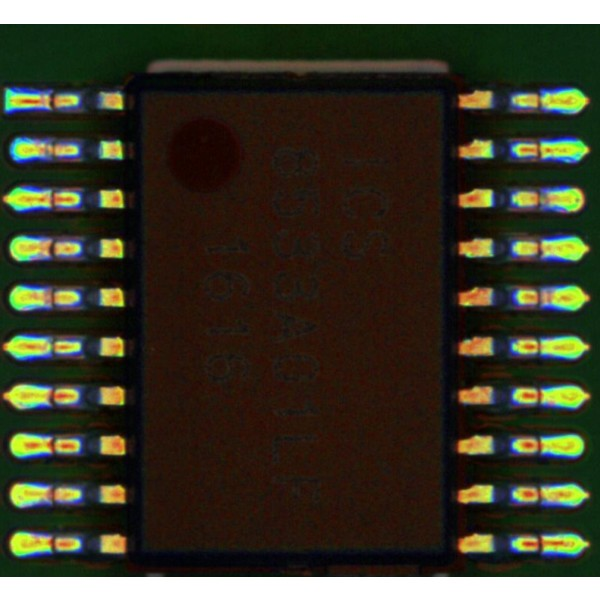Bad_podu: (527, 242, 561, 256), (35, 290, 67, 304), (34, 242, 68, 255), (28, 390, 68, 401), (528, 144, 559, 157), (38, 439, 68, 452), (42, 140, 69, 154), (32, 194, 69, 204), (527, 490, 561, 500), (34, 95, 67, 105), (528, 538, 558, 549), (35, 342, 67, 352), (527, 291, 556, 302), (37, 491, 64, 501), (35, 540, 67, 548)
